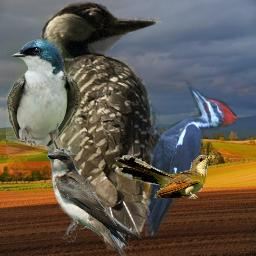Cuckoo: (115, 155, 215, 199)
Swallow: (47, 151, 142, 256), (6, 38, 81, 155)
Woodpecker: (40, 0, 187, 255), (143, 78, 237, 242)
